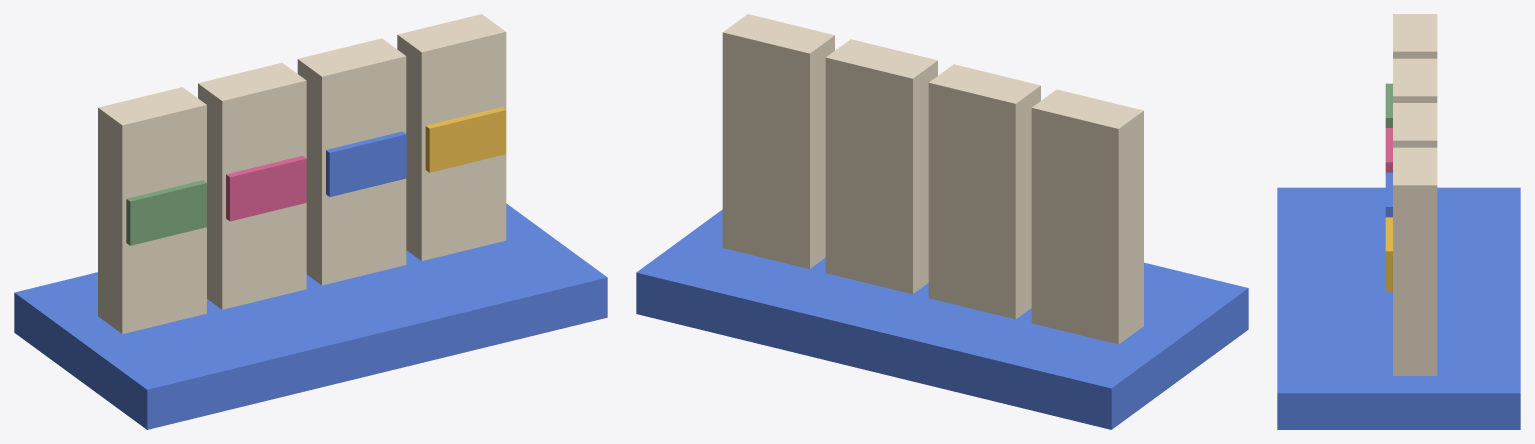
3 renders of one model, left to right at view 1: azimuth 30°, elevation 25°; view 2: azimuth 150°, elevation 25°; view 3: azimuth 270°, elevation 25°, orthographic. The views are drawn at different scales.
Visible parts, largest first — view 1: Brochure holder, Folded information sheet, Folded information sheet.003, Folded information sheet.002, Folded information sheet.001, Cover color band.003, Cover color band, Cover color band.002, Cover color band.001; view 2: Brochure holder, Folded information sheet, Folded information sheet.001, Folded information sheet.002, Folded information sheet.003; view 3: Brochure holder, Folded information sheet.003, Folded information sheet, Folded information sheet.002, Folded information sheet.001, Cover color band.003, Cover color band.002, Cover color band.001, Cover color band.
Boxes of the visible parts, <box> form: Brochure holder: <box>14,203,607,429</box>; Folded information sheet: <box>98,87,206,334</box>; Folded information sheet.003: <box>397,14,506,260</box>; Folded information sheet.002: <box>297,38,406,285</box>; Folded information sheet.001: <box>198,63,306,309</box>; Cover color band.003: <box>425,107,506,172</box>; Cover color band: <box>126,180,206,245</box>; Cover color band.002: <box>326,131,406,196</box>; Cover color band.001: <box>226,155,306,221</box>; Brochure holder: <box>636,209,1248,429</box>; Folded information sheet: <box>1031,89,1143,344</box>; Folded information sheet.001: <box>928,64,1040,319</box>; Folded information sheet.002: <box>825,39,937,294</box>; Folded information sheet.003: <box>722,14,834,268</box>; Brochure holder: <box>1277,187,1520,429</box>; Folded information sheet.003: <box>1393,147,1437,375</box>; Folded information sheet: <box>1393,14,1437,58</box>; Folded information sheet.002: <box>1393,103,1437,147</box>; Folded information sheet.001: <box>1393,58,1437,102</box>; Cover color band.003: <box>1385,217,1392,291</box>; Cover color band.002: <box>1385,172,1392,217</box>; Cover color band.001: <box>1385,128,1392,172</box>; Cover color band: <box>1385,83,1392,127</box>.
Bounding box in the file's own units: 60 × 31 × 30.
